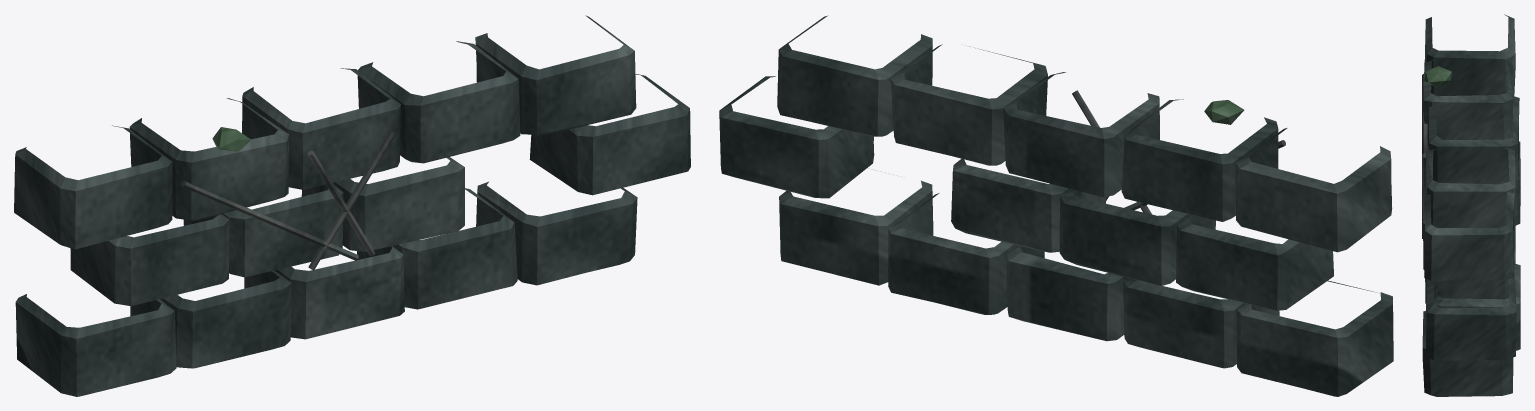
File: 0342_wall_section_17.glb
The picture shows the model from 3 angles, left to right: view 1: azimuth 30°, elevation 25°; view 2: azimuth 150°, elevation 25°; view 3: azimuth 270°, elevation 25°; orthographic projection. The views are drawn at different scales.
Parts seen in each view (by area): view 1: stone_dark, iron, moss; view 2: stone_dark, moss; view 3: stone_dark, iron, moss.
Part boxes in pixels (x1=…): stone_dark: x1=14, y1=15, x2=690, y2=396; iron: x1=181, y1=131, x2=395, y2=270; moss: x1=212, y1=127, x2=250, y2=151; stone_dark: x1=719, y1=15, x2=1393, y2=396; moss: x1=1204, y1=100, x2=1244, y2=124; stone_dark: x1=1422, y1=14, x2=1520, y2=396; iron: x1=1422, y1=74, x2=1427, y2=238; moss: x1=1424, y1=66, x2=1451, y2=88.
Size of the model in its own units: 3.4 by 1.17 by 0.5873.
3 materials, 3 textured.
